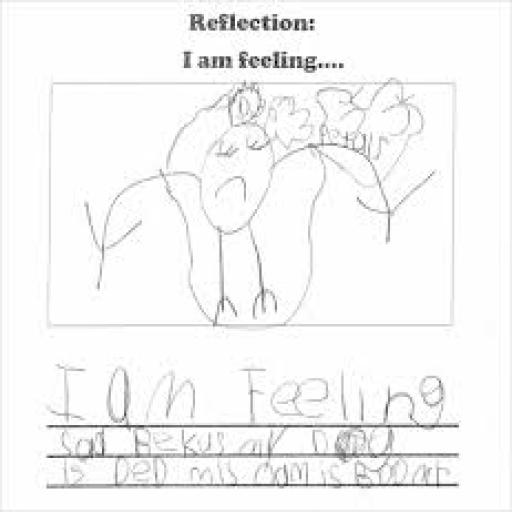person: (86, 81, 440, 333)
